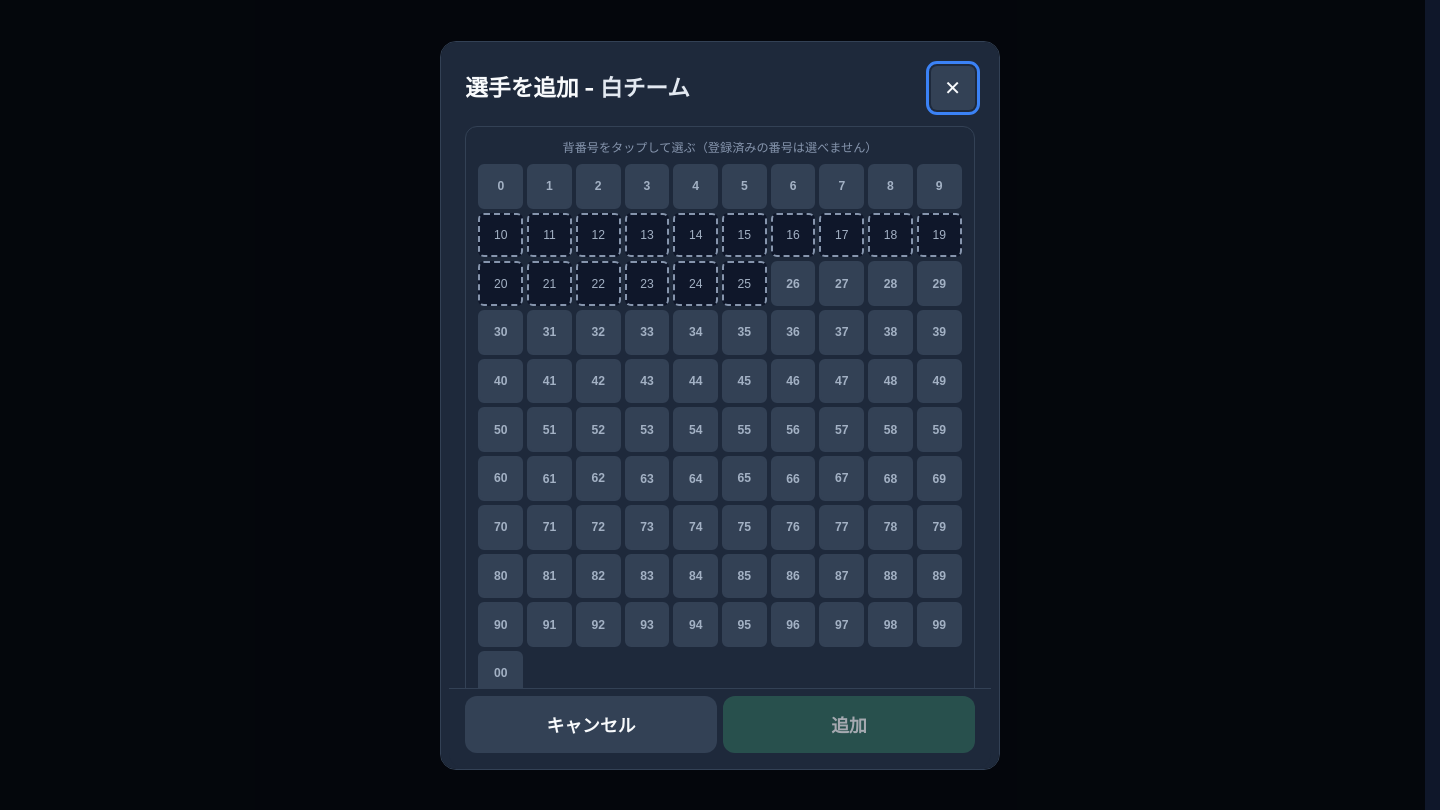
it: AddPlayersPanel: 15人あふれの案内 › 元から15人を超えている分は「今回のせい」にしない
The width and height of the screenshot is (1440, 810).
Click the button named "背番号4".
click(696, 186)  # box [673,164,718,208]
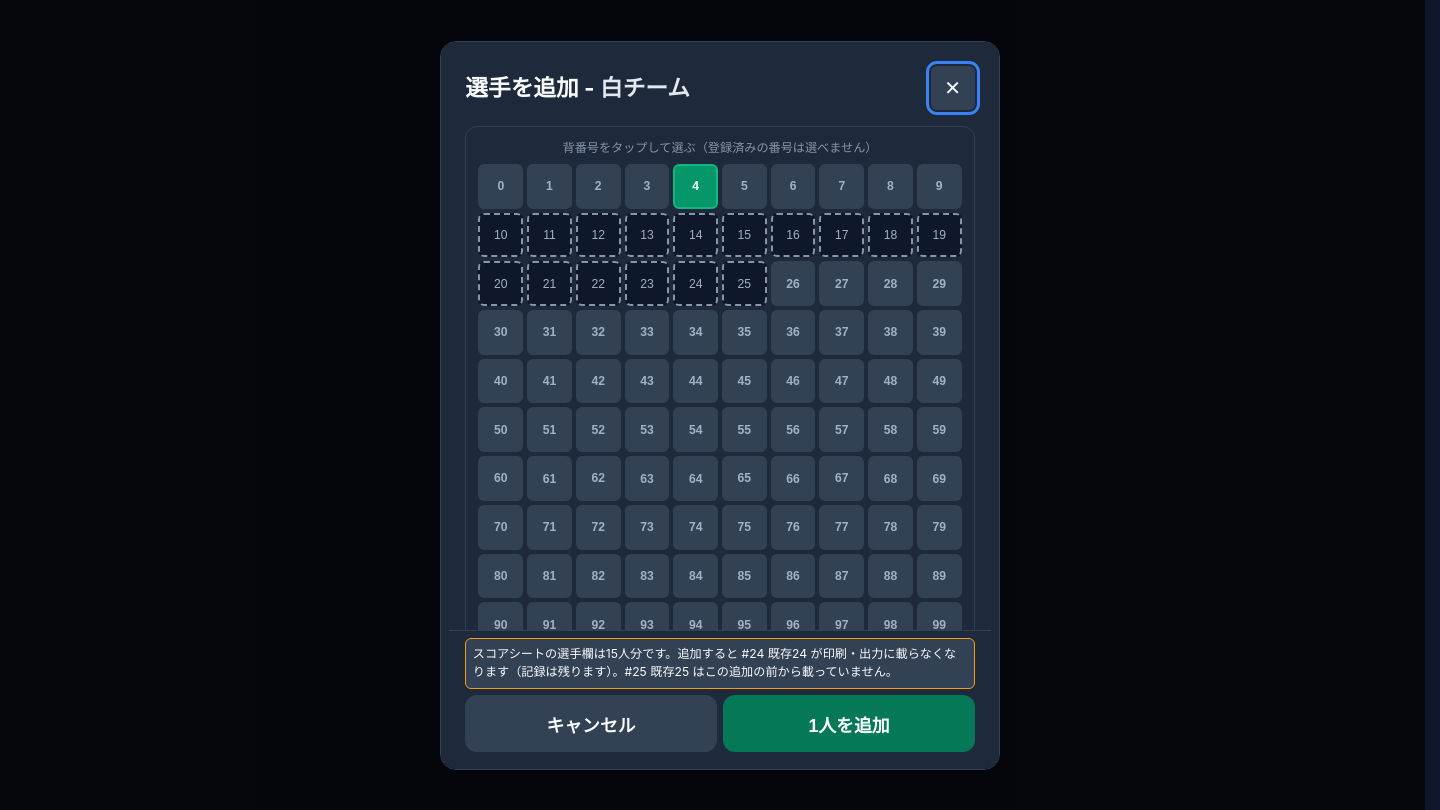
Now the message shows "追加すると #24 既存24 が印刷・出力に載らなくなります", box [473,646,956,679]
Now the message shows "#25 既存25 はこの追加の前から載っていません", box [624,664,898,680]
